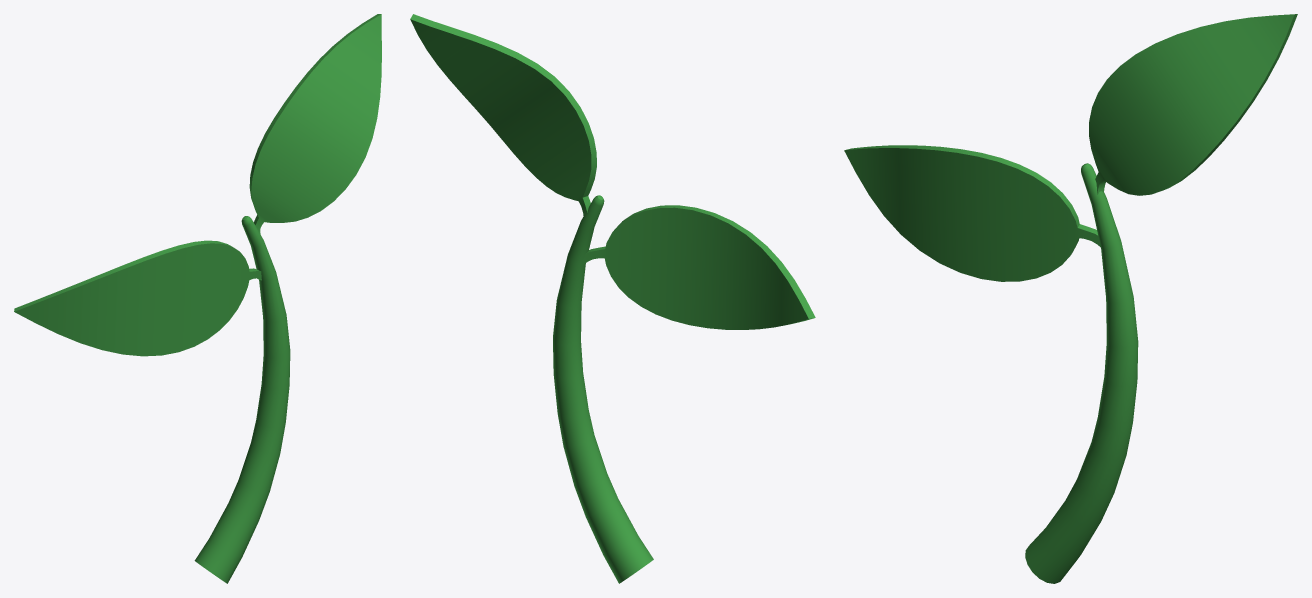
The model's file is seedling.glb.
The picture shows the model from 3 angles, left to right: view 1: azimuth 30°, elevation 25°; view 2: azimuth 150°, elevation 25°; view 3: azimuth 330°, elevation 25°; orthographic projection. The views are drawn at different scales.
Visible parts, largest first — view 1: Circle.2053; view 2: Circle.2053; view 3: Circle.2053.
Part boxes in pixels (left/top/right/bottom): Circle.2053: left=14, top=14, right=381, bottom=583; Circle.2053: left=410, top=14, right=815, bottom=583; Circle.2053: left=844, top=14, right=1297, bottom=583.
Size of the model in its own units: 1.77 by 2.29 by 0.3127.
1 material, 1 textured.
